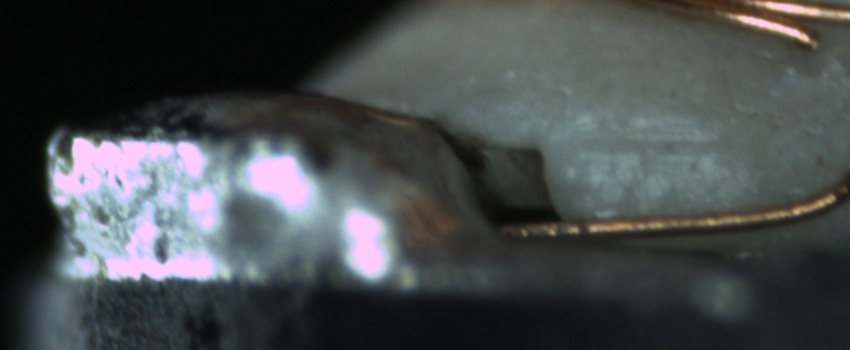DL: (568, 113, 722, 175)
